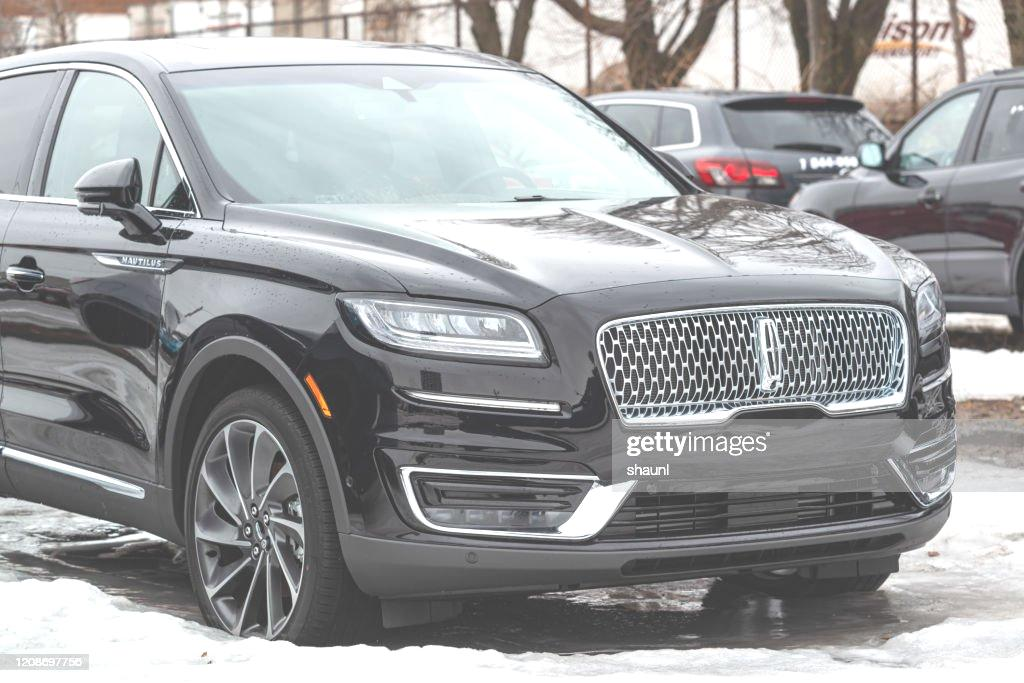lincoln: (746, 313, 794, 405)
